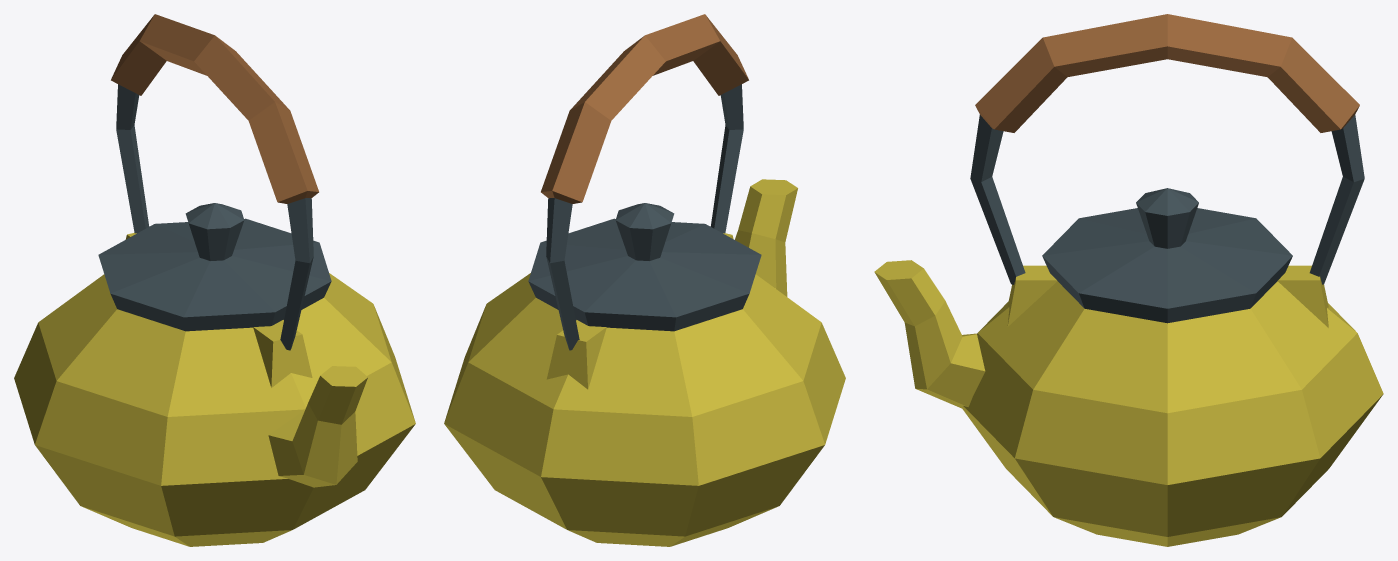
File: Boiler.fbx
3 renders of one model, left to right at view 1: azimuth 30°, elevation 25°; view 2: azimuth 150°, elevation 25°; view 3: azimuth 270°, elevation 25°, orthographic. The views are drawn at different scales.
Parts seen in each view (by area): view 1: teapot; view 2: teapot; view 3: teapot.
Boxes of the visible parts, bbox=[...] form: teapot: bbox=[14, 14, 415, 546]; teapot: bbox=[444, 14, 845, 546]; teapot: bbox=[874, 14, 1383, 546].
Bounding box in the file's own units: 21.84 × 27.7 × 25.74.
